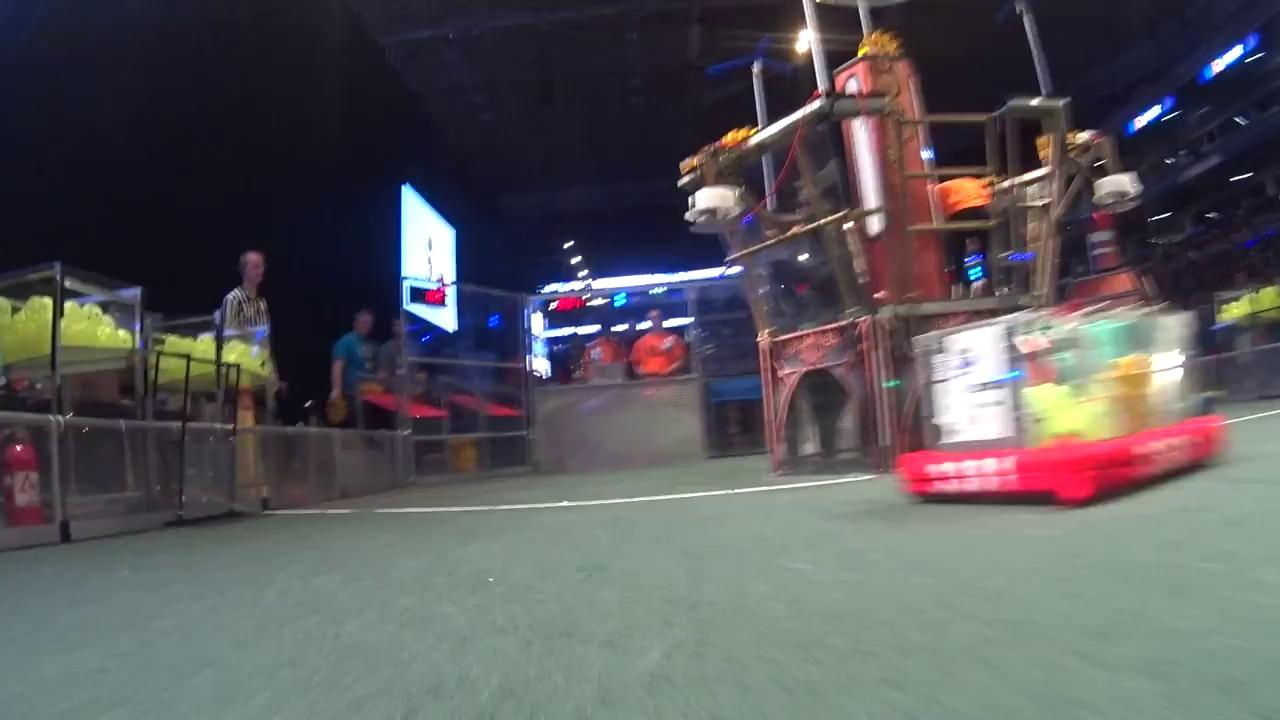robot: (888, 297, 1228, 514)
